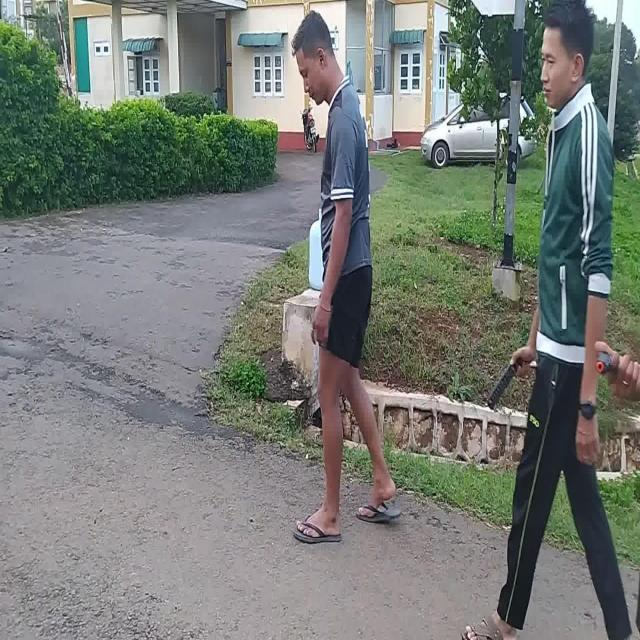gun: (596, 352, 610, 374)
